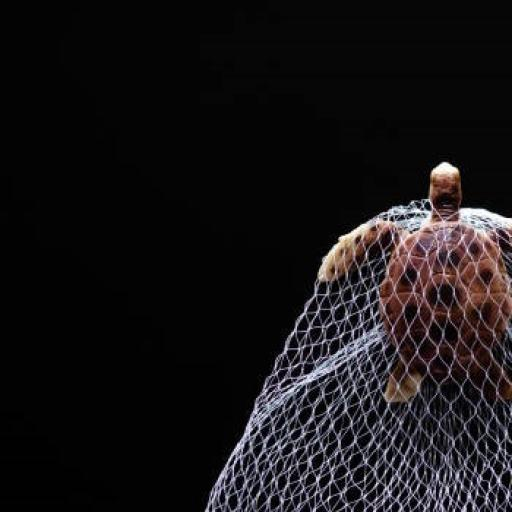net: (199, 283, 511, 512)
